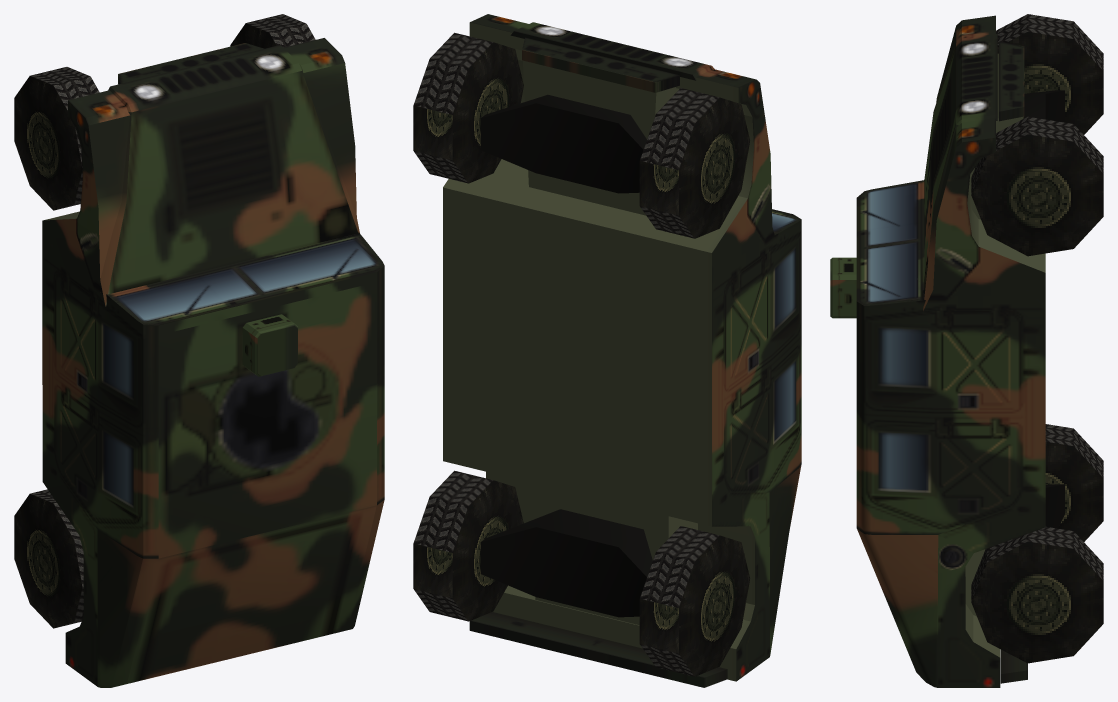
Rendered from hummer.obj.
The picture shows the model from 3 angles, left to right: view 1: azimuth 30°, elevation 25°; view 2: azimuth 150°, elevation 25°; view 3: azimuth 270°, elevation 25°; orthographic projection. The views are drawn at different scales.
Parts seen in each view (by area): view 1: body, wheels; view 2: body, wheels; view 3: body, wheels.
Part boxes in pixels (x1,y1,x2,y2): body: [42, 38, 384, 687]; wheels: [14, 14, 315, 628]; body: [443, 14, 801, 687]; wheels: [413, 32, 749, 676]; body: [830, 15, 1064, 687]; wheels: [971, 14, 1103, 663].
Size of the model in its own units: 2.19 by 4.54 by 2.04.
Materials: 4 (4 with a texture image).
